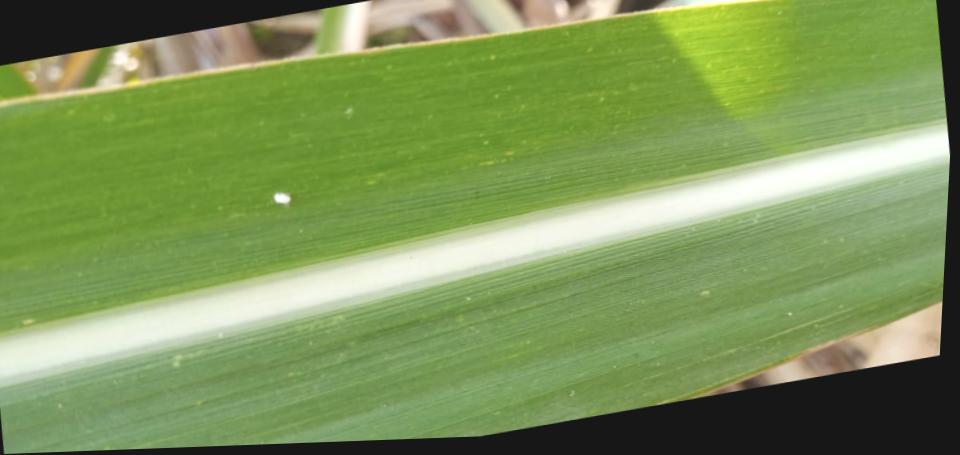Healthy: (0, 0, 950, 454)
